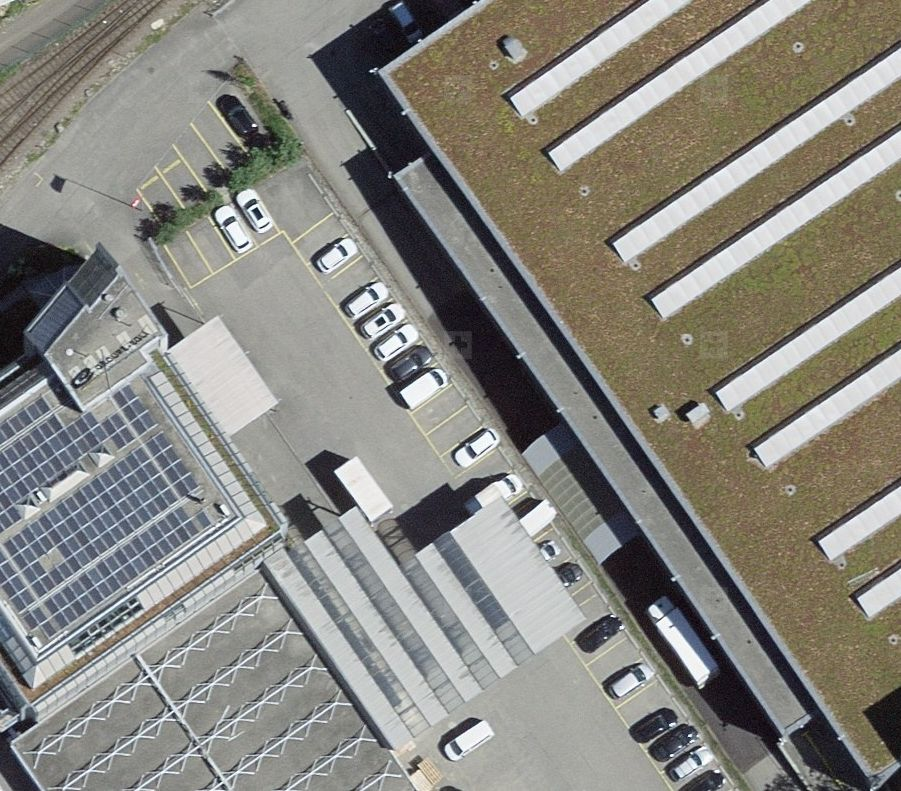solar: (1, 387, 219, 646)
